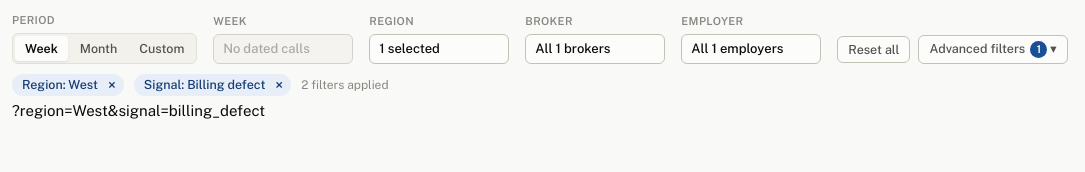
Test case: FilterBar › resets everything at once
Click the button "Reset all": (874, 49) [837, 36, 910, 62]
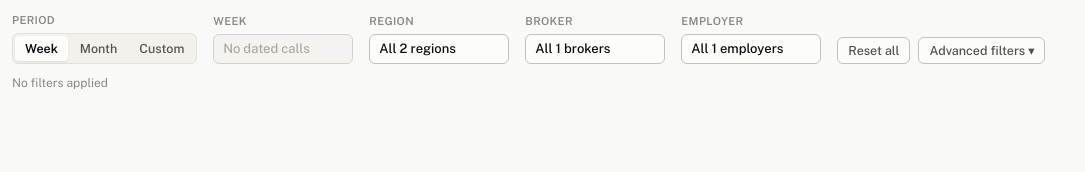
Check: the element with test id "address" does not show "region"
Check: the element with test id "address" no longer shows "Signal"
